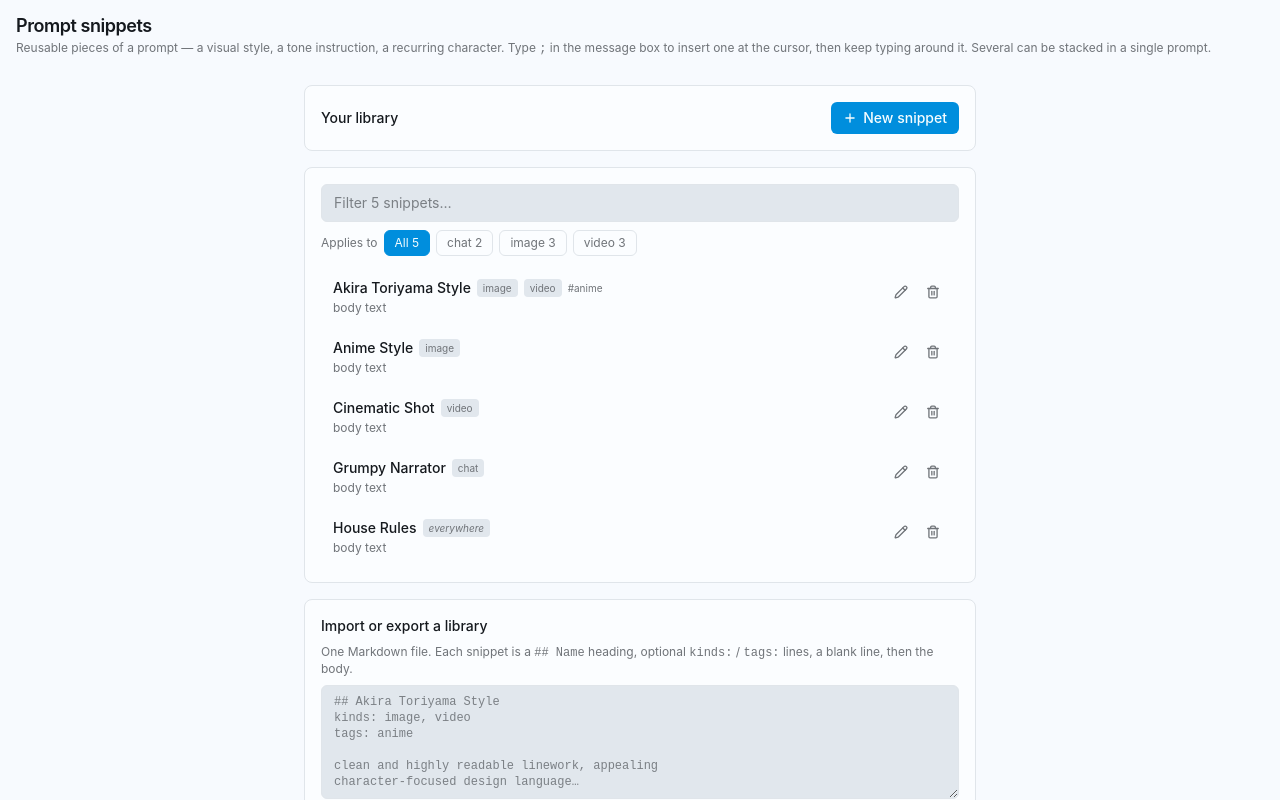
Test: snippets settings — modality quick-filter › excludes snippets of other modalities
Click the button "chat 2": {"x": 465, "y": 243} [436,230,493,256]
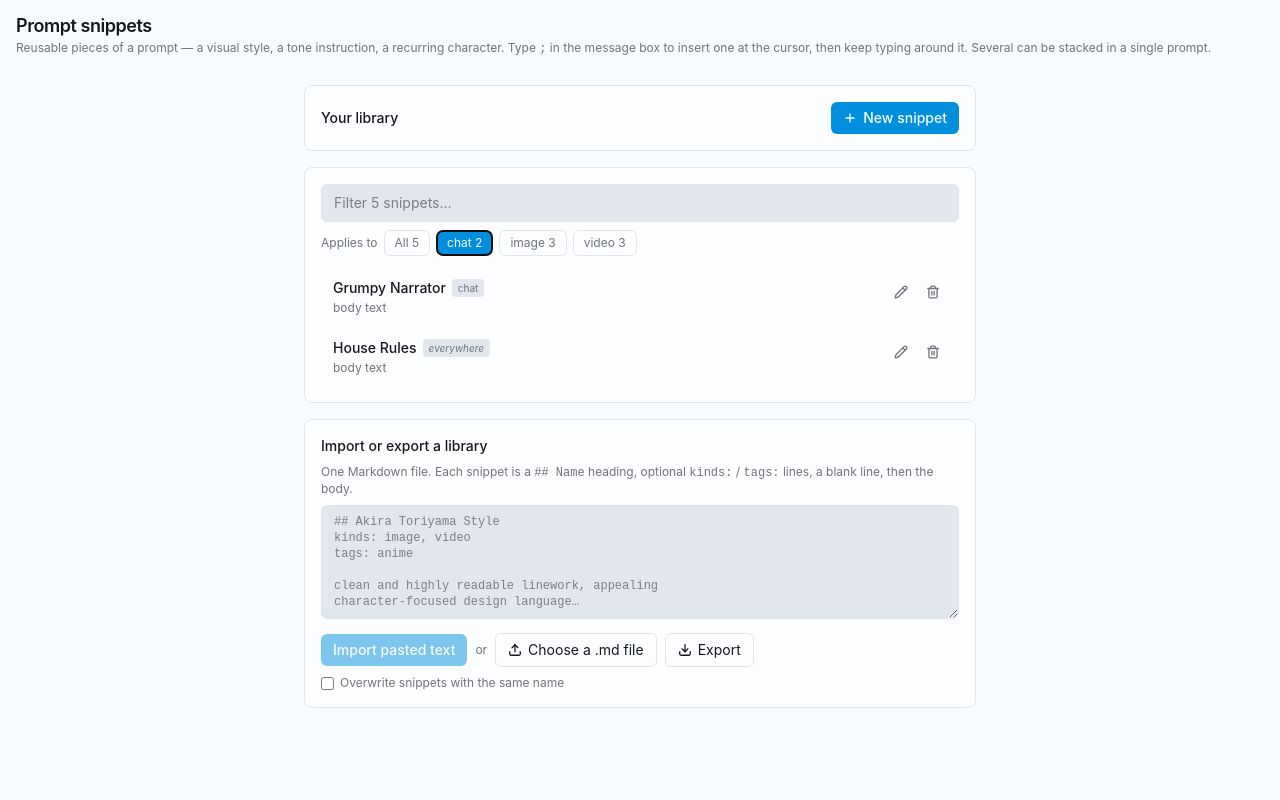
Check: the text "Anime Style" is gone
Check: the text "Cinematic Shot" is gone
